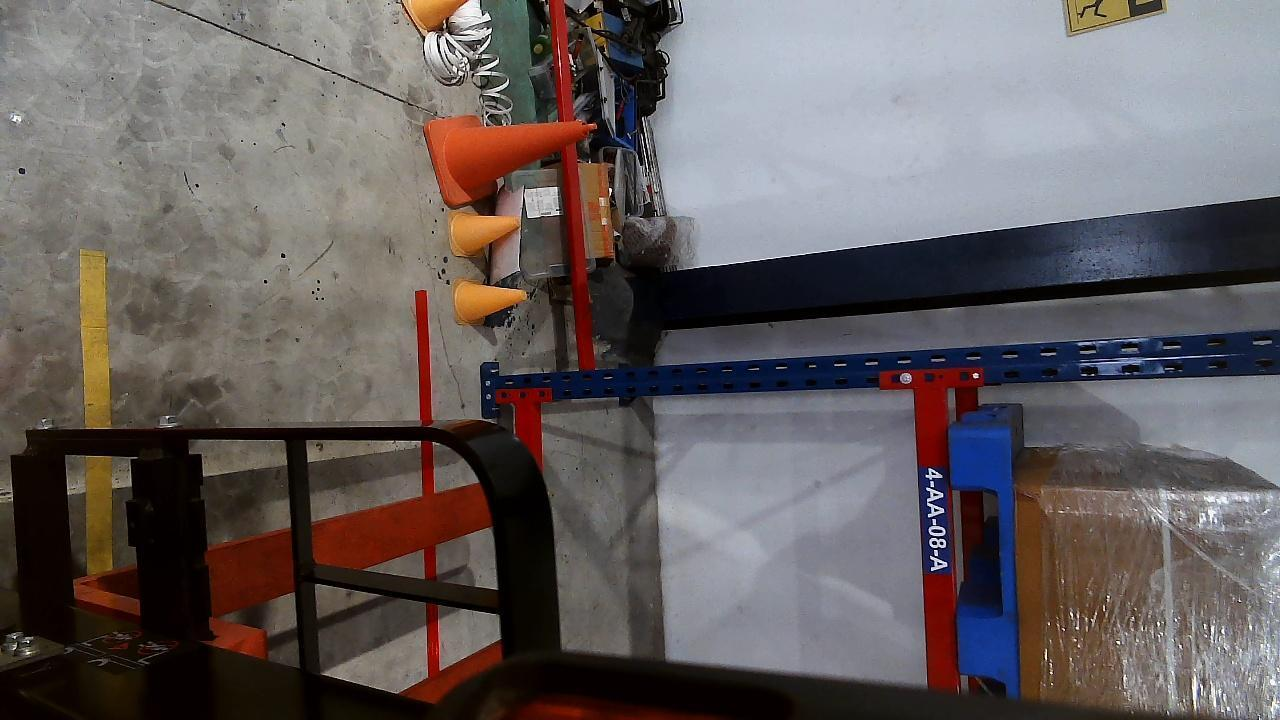red_line: (414, 289, 440, 673)
yellow_line: (78, 248, 116, 566)
